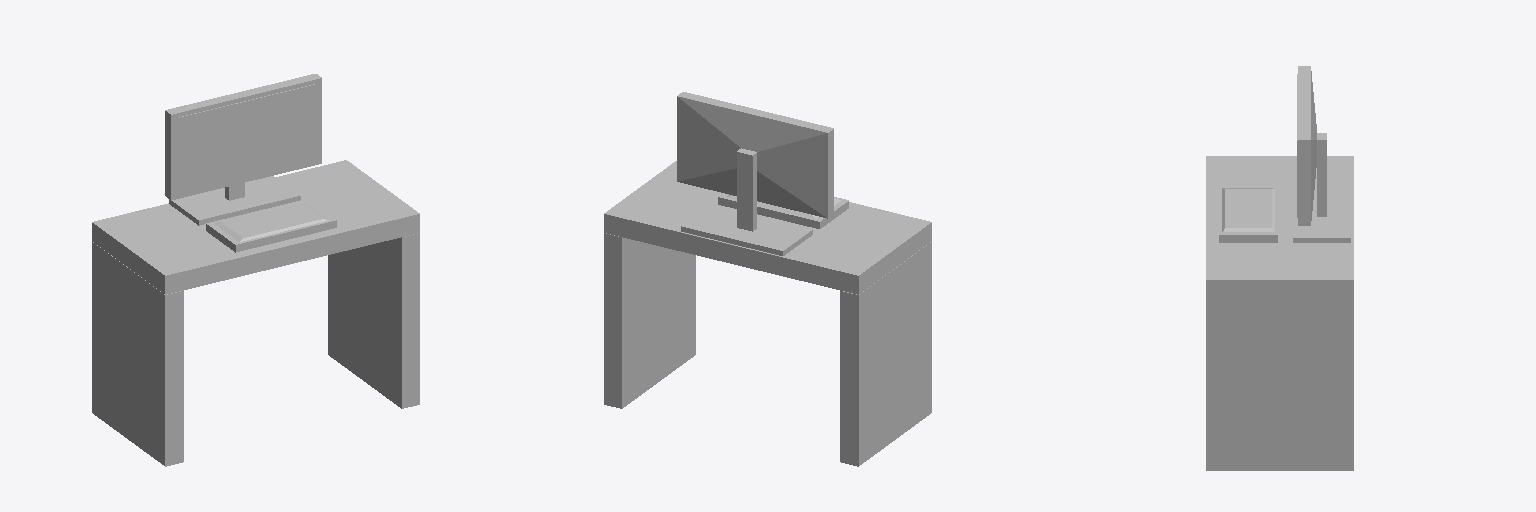
The model's file is computer_desk.obj.
The picture shows the model from 3 angles: view 1: azimuth 30°, elevation 25°; view 2: azimuth 150°, elevation 25°; view 3: azimuth 270°, elevation 25°; orthographic projection.
Parts seen in each view (by area): view 1: computer_Cube, Cube.001, Cube.003, Cube.002, keyboard_Cube.004; view 2: computer_Cube, Cube.001, Cube.003, Cube.002, keyboard_Cube.004; view 3: Cube.002, Cube.001, computer_Cube, keyboard_Cube.004.
Boxes of the visible parts, box(x1,y1,x2,y2) form: computer_Cube: box(165, 74, 321, 225); Cube.001: box(92, 160, 419, 294); Cube.003: box(92, 242, 183, 466); Cube.002: box(328, 233, 419, 408); keyboard_Cube.004: box(206, 199, 336, 252); computer_Cube: box(677, 92, 833, 255); Cube.001: box(604, 161, 931, 294); Cube.003: box(840, 242, 931, 466); Cube.002: box(604, 233, 695, 408); keyboard_Cube.004: box(718, 193, 848, 228); Cube.002: box(1206, 299, 1353, 470); Cube.001: box(1206, 156, 1353, 298); computer_Cube: box(1293, 66, 1350, 242); keyboard_Cube.004: box(1219, 185, 1277, 242).
Size of the model in its own units: 1.4 by 1.6 by 0.7.